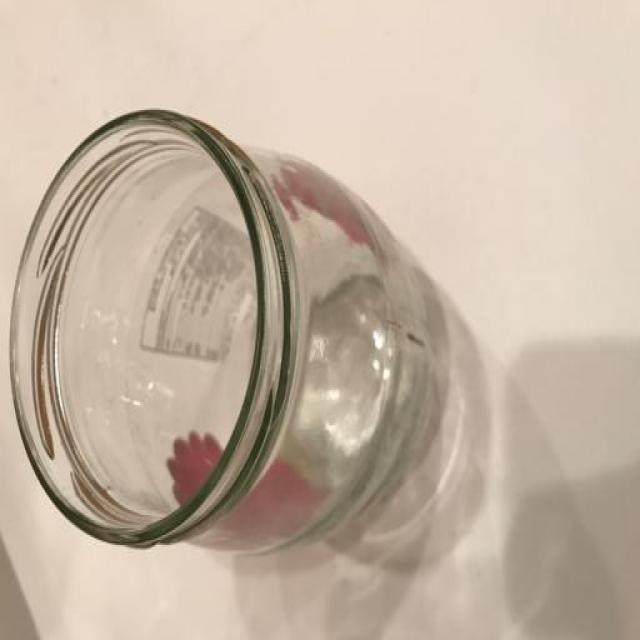glass: (4, 92, 467, 577)
